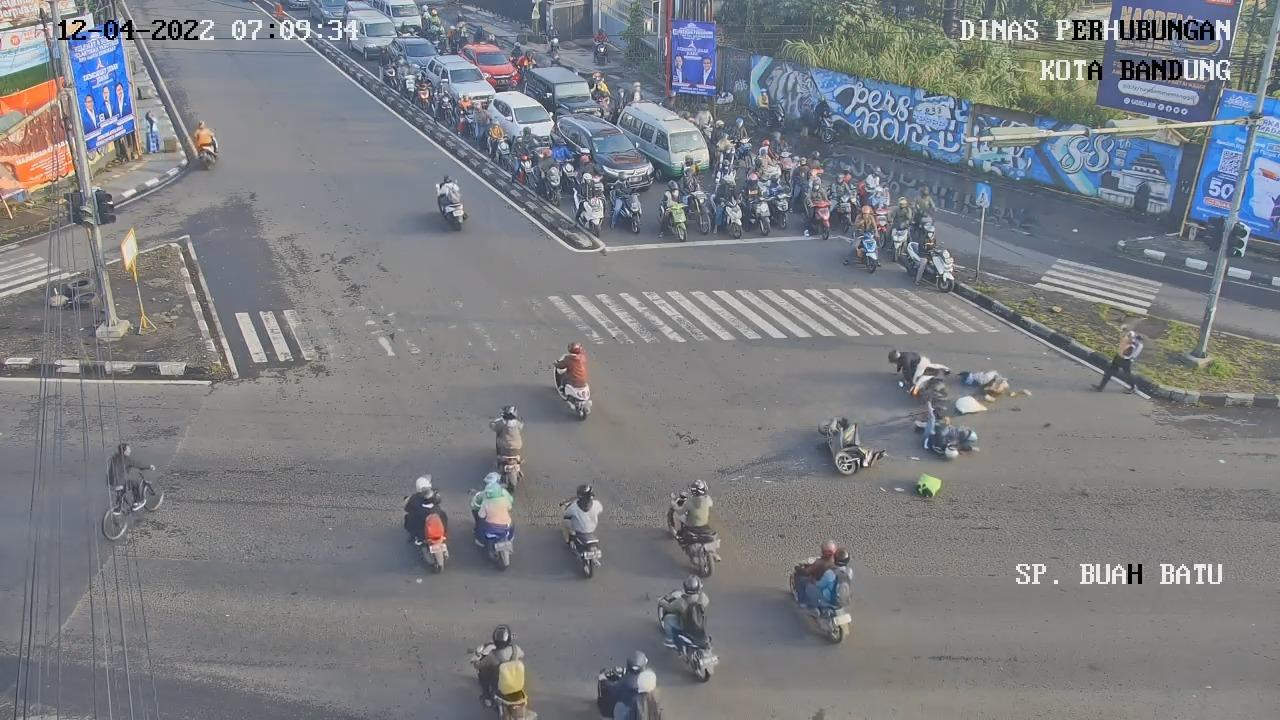accident: (914, 407, 980, 452), (921, 396, 959, 460), (886, 348, 931, 398)
